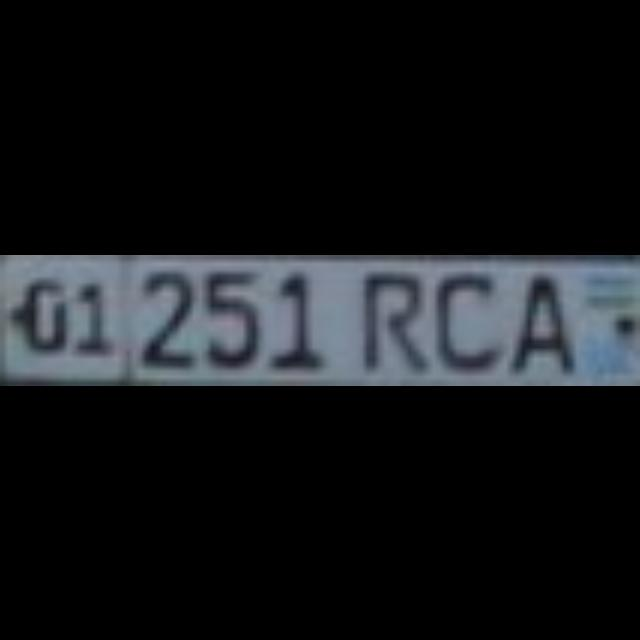0: (24, 266, 60, 344)
1: (263, 266, 317, 362), (66, 272, 108, 344)
2: (131, 260, 191, 356)
5: (197, 260, 251, 356)
A: (502, 266, 568, 368)
C: (431, 260, 491, 356)
R: (353, 260, 425, 362)
